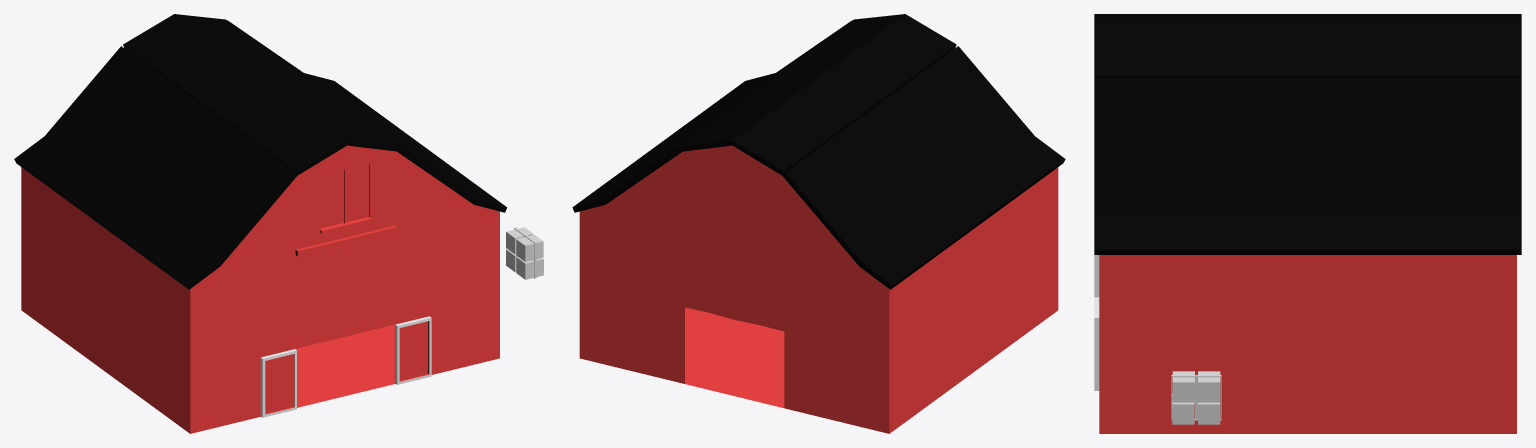
The model's file is barn.fbx.
3 renders of one model, left to right at view 1: azimuth 30°, elevation 25°; view 2: azimuth 150°, elevation 25°; view 3: azimuth 270°, elevation 25°, orthographic. The views are drawn at different scales.
Parts seen in each view (by area): view 1: Cube.002, Cube, Cube.005; view 2: Cube.002, Cube; view 3: Cube, Cube.002, Cube.005, Cube.001.
Part boxes in pixels (<box>): Cube.002: <box>21,145,499,433</box>; Cube: <box>14,14,506,374</box>; Cube.005: <box>506,227,543,279</box>; Cube.002: <box>579,145,1058,433</box>; Cube: <box>572,14,1065,289</box>; Cube: <box>1094,14,1521,254</box>; Cube.002: <box>1094,255,1516,433</box>; Cube.005: <box>1172,371,1220,424</box>; Cube.001: <box>1171,375,1221,420</box>.
Size of the model in its own units: 2258 by 1428 by 1741.
